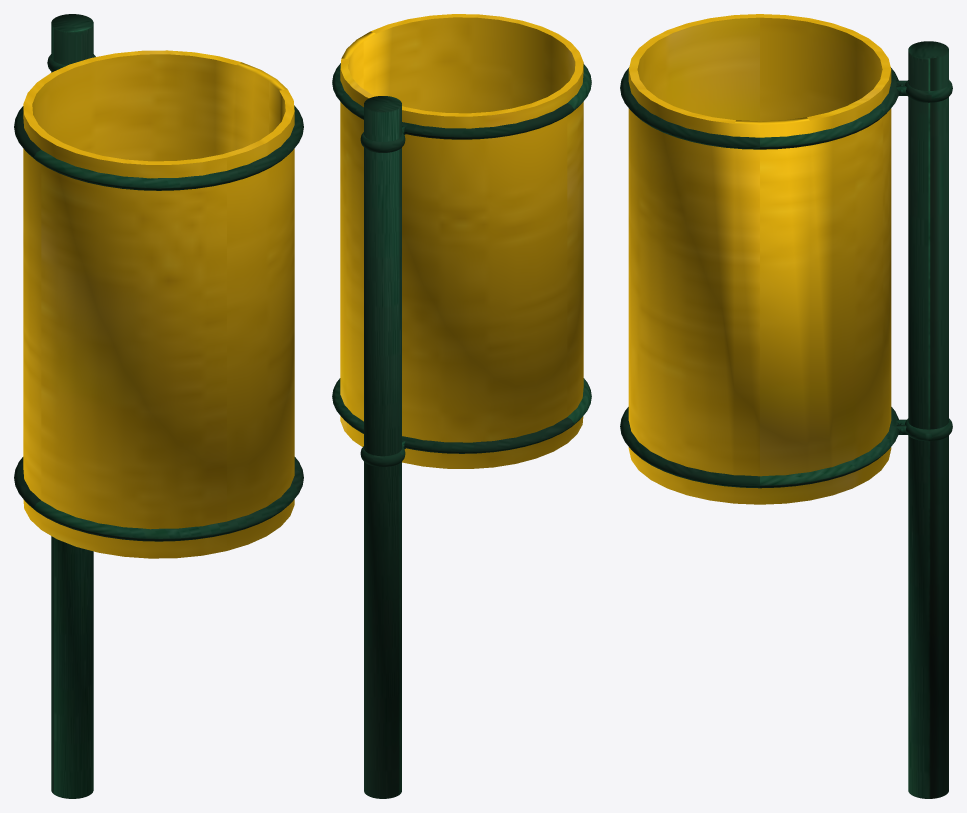
File: Waste bin.fbx
The picture shows the model from 3 angles, left to right: view 1: azimuth 30°, elevation 25°; view 2: azimuth 150°, elevation 25°; view 3: azimuth 270°, elevation 25°; orthographic projection. The views are drawn at different scales.
Visible parts, largest first — view 1: Waste bin, Support, Ring support; view 2: Waste bin, Support, Ring support; view 3: Waste bin, Support, Ring support.
Boxes of the visible parts, x1=… form: Waste bin: x1=23, y1=50, x2=294, y2=558; Support: x1=51, y1=14, x2=93, y2=798; Ring support: x1=14, y1=54, x2=303, y2=541; Waste bin: x1=340, y1=14, x2=583, y2=468; Support: x1=364, y1=96, x2=401, y2=798; Ring support: x1=332, y1=63, x2=591, y2=466; Waste bin: x1=628, y1=14, x2=891, y2=504; Support: x1=908, y1=41, x2=948, y2=798; Ring support: x1=620, y1=67, x2=952, y2=488.
Size of the model in its own units: 43.72 by 128 by 51.99.
3 materials, 3 textured.
